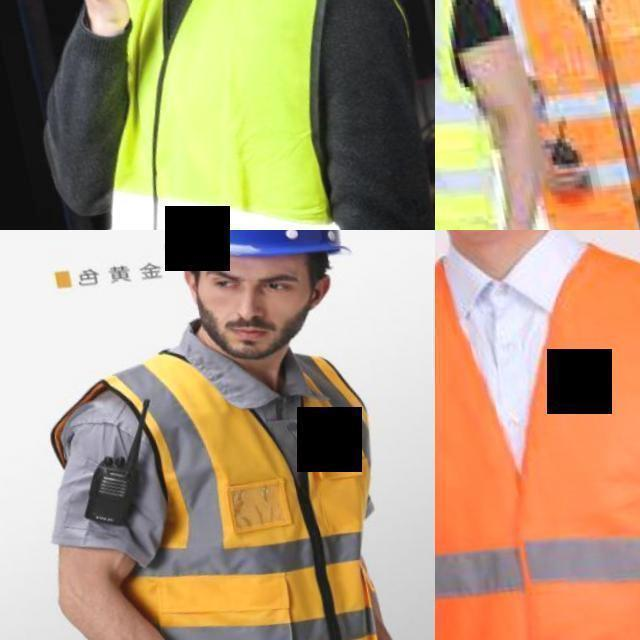vest: (98, 339, 404, 640), (42, 0, 422, 230), (435, 230, 640, 640), (478, 0, 640, 230), (435, 0, 498, 230)
